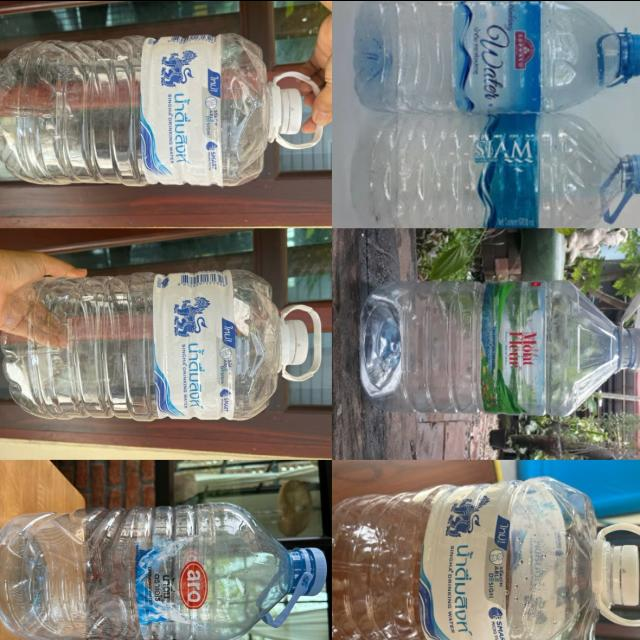plastik: (333, 476, 640, 640), (0, 34, 324, 184), (2, 268, 322, 419), (0, 502, 326, 640), (360, 279, 640, 415), (352, 112, 640, 226), (354, 0, 640, 112)
